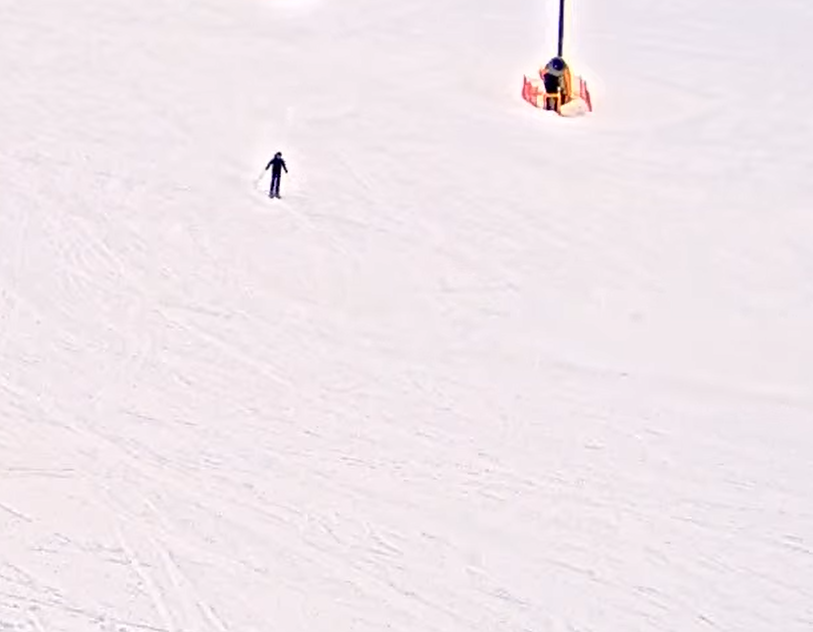skier: (256, 144, 289, 201)
